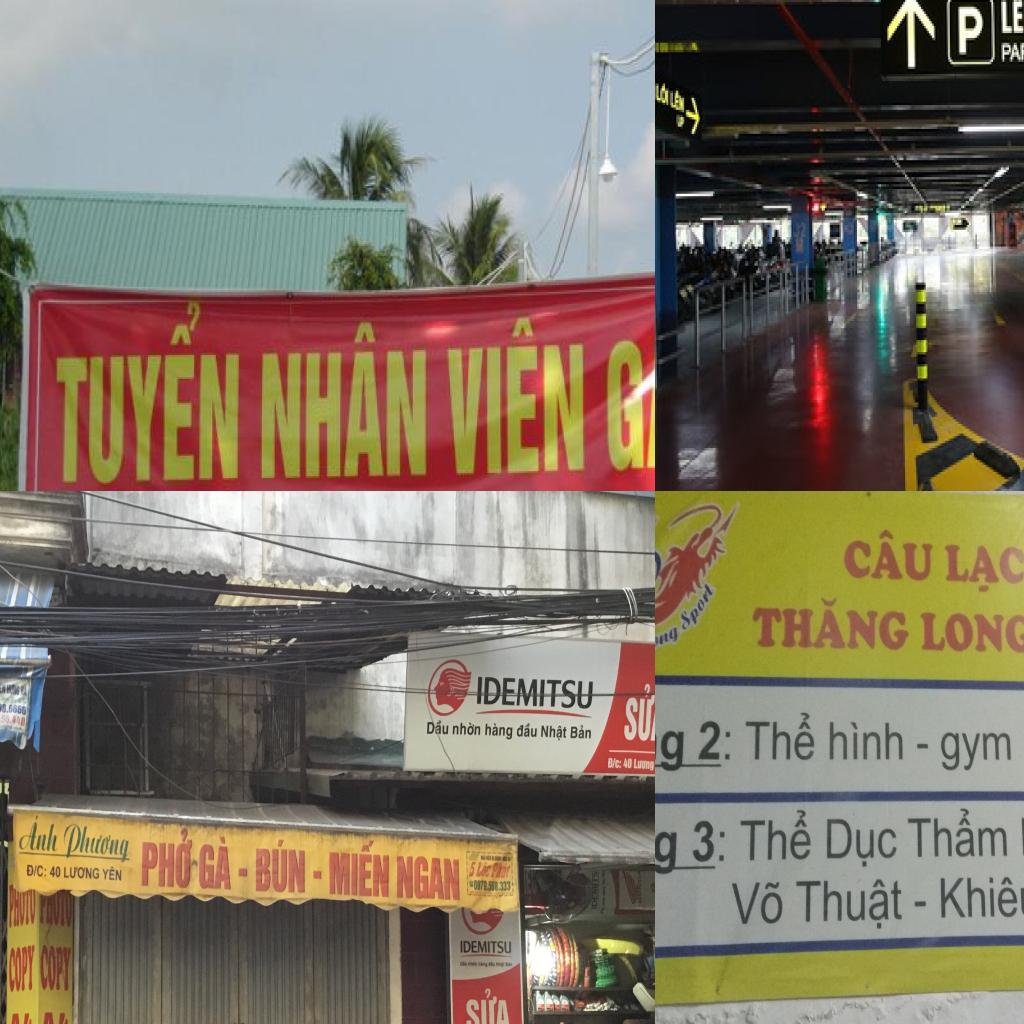text: (54, 302, 242, 485), (262, 319, 430, 483), (442, 316, 587, 478), (747, 592, 909, 652), (606, 288, 655, 472), (794, 878, 906, 936), (901, 802, 1011, 858), (838, 523, 933, 584), (917, 607, 1024, 653), (935, 871, 1024, 920), (941, 541, 1024, 592), (744, 709, 820, 763), (736, 807, 812, 861), (476, 676, 594, 710), (824, 718, 905, 766), (328, 837, 390, 898), (825, 817, 895, 871), (936, 729, 1014, 773), (141, 825, 193, 889), (396, 854, 460, 902), (60, 822, 133, 863), (728, 876, 784, 928), (256, 838, 306, 894), (677, 574, 718, 636), (691, 718, 737, 772), (655, 707, 687, 778), (622, 681, 655, 743), (198, 834, 232, 890), (17, 814, 62, 854), (692, 817, 728, 866), (956, 4, 987, 60), (465, 988, 511, 1024), (655, 810, 679, 879), (39, 944, 72, 991), (9, 944, 36, 993), (655, 617, 683, 651), (1001, 0, 1024, 40), (460, 940, 512, 954), (1001, 40, 1024, 66), (668, 88, 688, 117), (484, 722, 514, 741), (59, 889, 72, 929), (9, 882, 20, 929), (64, 866, 100, 880), (540, 724, 568, 742), (656, 81, 672, 110), (452, 720, 481, 736), (474, 880, 511, 892), (525, 869, 538, 901), (39, 1011, 70, 1024), (426, 719, 449, 736), (0, 701, 26, 716), (0, 712, 26, 727), (516, 722, 538, 739), (101, 866, 123, 882), (490, 862, 512, 878), (570, 724, 592, 740), (590, 871, 599, 910), (474, 862, 492, 880), (633, 758, 655, 772), (8, 1012, 33, 1024), (26, 864, 47, 878), (607, 756, 622, 770), (7, 683, 20, 696), (49, 866, 61, 878), (623, 757, 633, 770), (468, 862, 476, 878), (637, 876, 642, 897), (20, 684, 27, 696), (0, 681, 6, 694), (478, 961, 488, 968), (467, 960, 478, 966), (496, 961, 505, 968), (13, 726, 23, 732), (460, 960, 468, 967), (488, 961, 496, 967), (505, 961, 513, 967)
